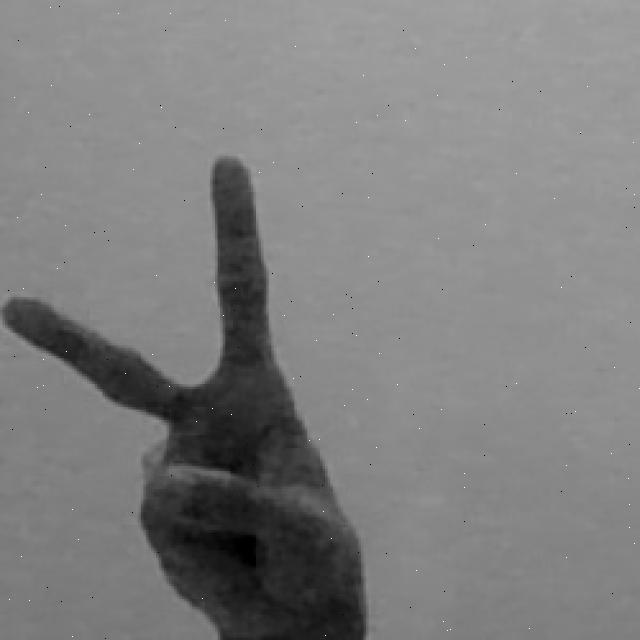V: (0, 142, 371, 640)
